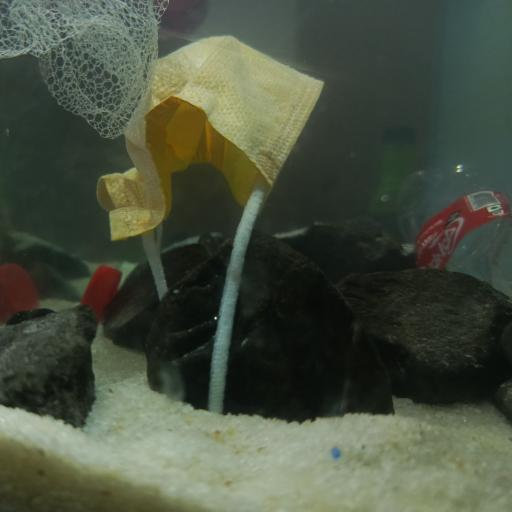bottle_cap: (81, 264, 122, 310)
mask: (96, 35, 326, 342)
net: (4, 2, 162, 137)
plastic_bottle: (394, 158, 512, 284)
